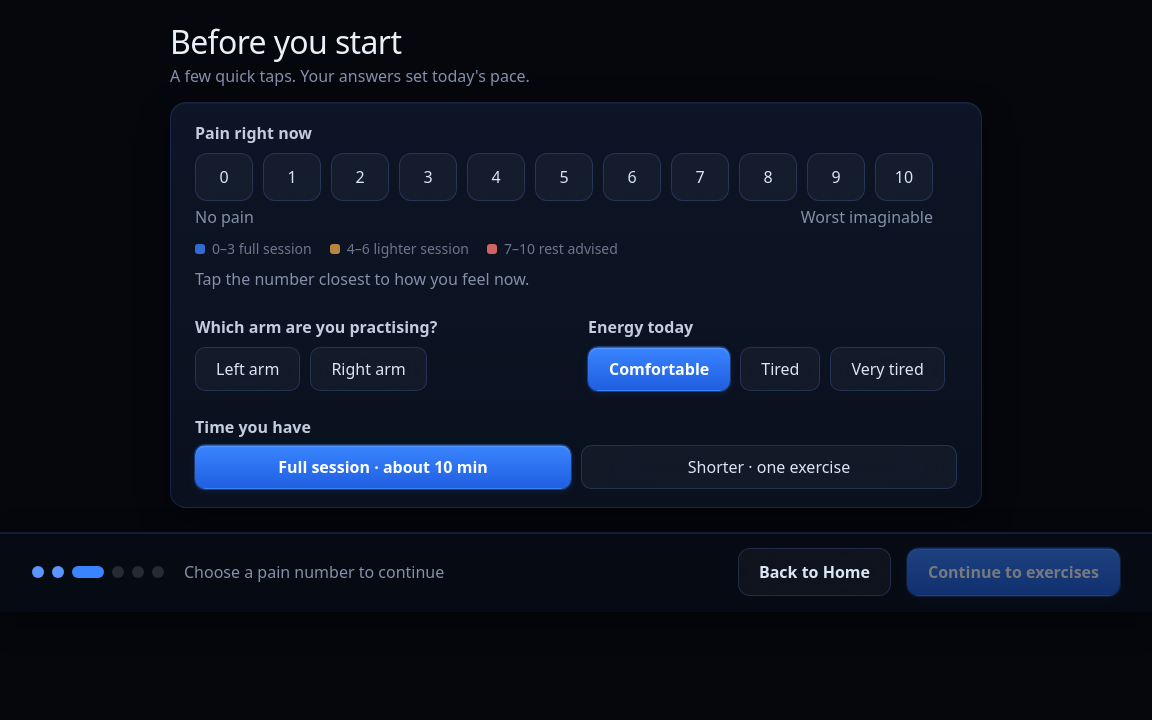
it: continue is disabled with a hint until pain and side are chosen; the hint then goes away
Check: the button "Continue to exercises" is disabled, box left=907, top=548, right=1120, bottom=596
Click the radio button labelled "0": (224, 176) left=195, top=152, right=253, bottom=200
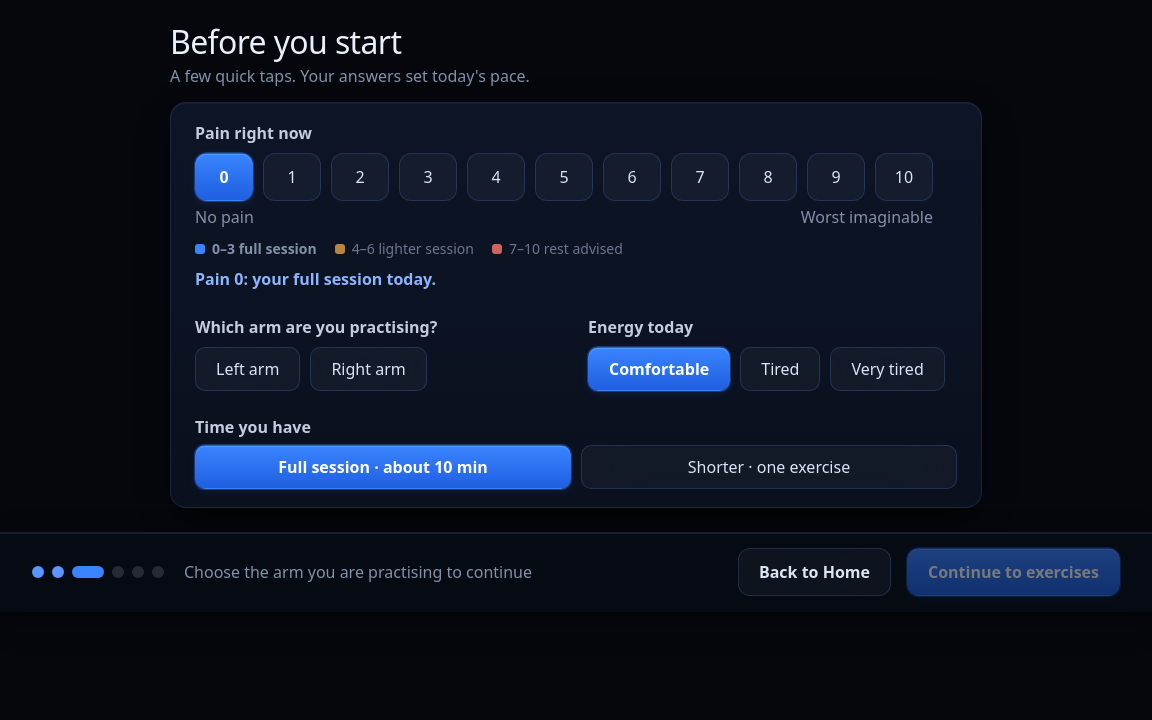
Check: the button "Continue to exercises" is disabled, box left=907, top=548, right=1120, bottom=596
Click the radio button labelled "Left arm": (248, 368) left=195, top=346, right=300, bottom=390
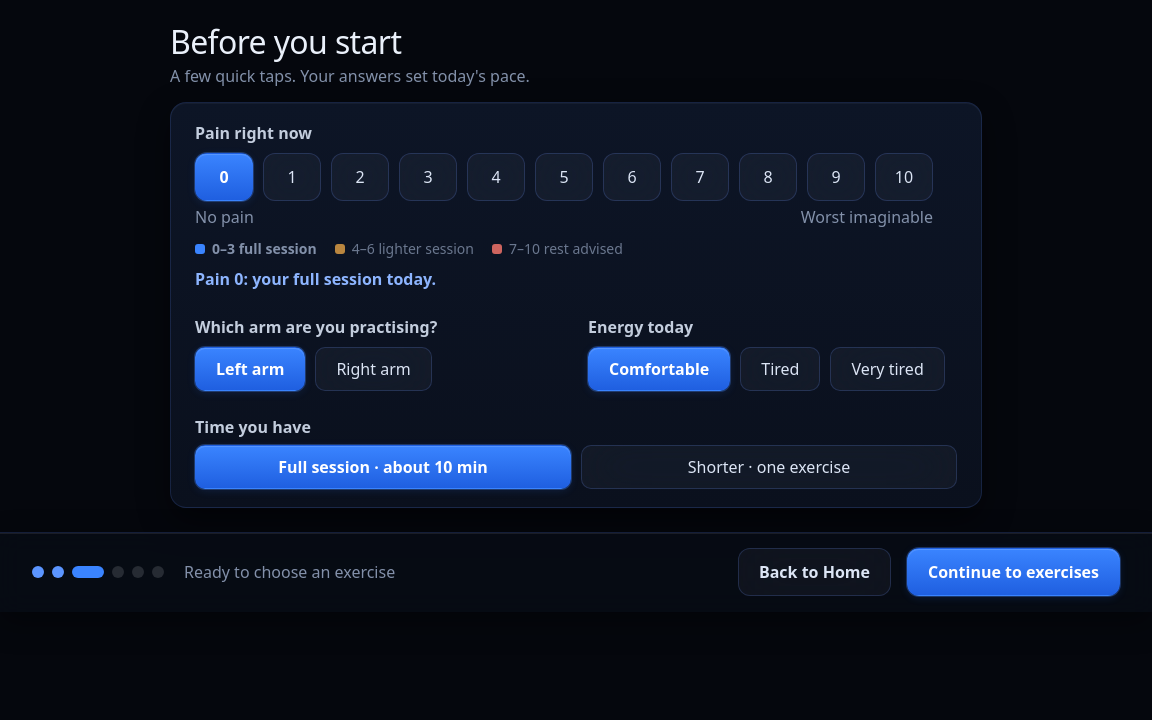
Check: the button "Continue to exercises" is enabled, box left=907, top=548, right=1120, bottom=596
Check: the text "to continue" is gone
